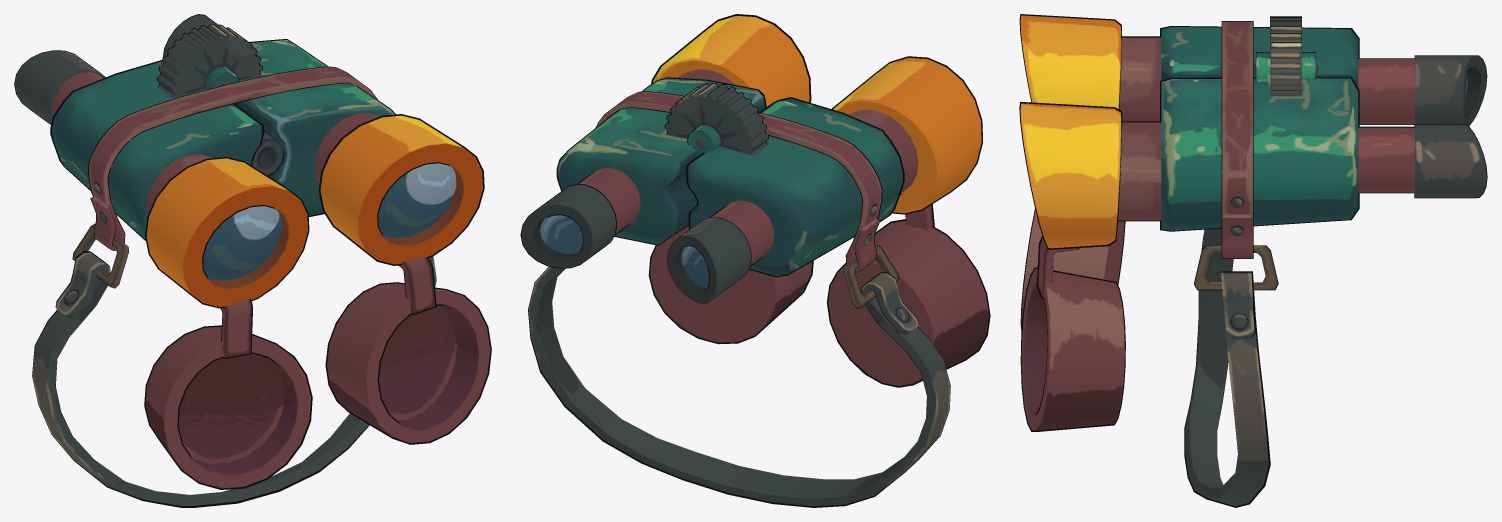
The model's file is binoculars.glb.
3 views of the same model, side by side, from view 1: azimuth 30°, elevation 25°; view 2: azimuth 150°, elevation 25°; view 3: azimuth 270°, elevation 25° (orthographic). The views are drawn at different scales.
Parts seen in each view (by area): view 1: pCylinder11, pCylinder1, pCube22, pCylinder2, pCylinder10, pCube7, pCube4, pCube10, pGear1, pCube20, pCube1, pCylinder14 (+15 smaller); view 2: pCube22, pCube7, pCylinder11, pCube4, pCylinder10, pCylinder2, pCylinder1, pCylinder6, pCube10, pCylinder14, pGear1, pCylinder4 (+12 smaller); view 3: pCube4, pCylinder1, pCube7, pCylinder2, pCylinder10, pCube10, pCube22, pCylinder6, pCylinder14, pCylinder3, pCylinder4, pCylinder13 (+10 smaller).
Part boxes in pixels (x1,y1,x2,y2): pCylinder11: [145, 326, 310, 488]; pCylinder1: [327, 283, 490, 443]; pCube22: [52, 61, 262, 239]; pCylinder2: [320, 115, 482, 264]; pCylinder10: [146, 158, 307, 306]; pCube7: [32, 252, 436, 506]; pCube4: [235, 40, 394, 215]; pCube10: [89, 67, 376, 250]; pGear1: [157, 24, 261, 97]; pCube20: [203, 206, 281, 280]; pCube1: [378, 163, 456, 238]; pCylinder14: [14, 50, 105, 124]; pCube22: [687, 98, 902, 276]; pCube7: [528, 267, 950, 506]; pCylinder11: [828, 220, 988, 386]; pCube4: [558, 78, 765, 244]; pCylinder10: [833, 57, 981, 213]; pCylinder2: [653, 15, 809, 106]; pCylinder1: [650, 226, 811, 342]; pCylinder6: [521, 184, 616, 267]; pCube10: [597, 91, 881, 271]; pCylinder14: [667, 217, 751, 303]; pGear1: [665, 83, 768, 155]; pCylinder4: [579, 168, 640, 233]; pCube4: [1161, 78, 1358, 230]; pCylinder1: [1021, 269, 1124, 430]; pCube7: [1185, 228, 1268, 506]; pCylinder2: [1020, 103, 1121, 248]; pCylinder10: [1020, 15, 1121, 108]; pCube10: [1222, 21, 1252, 258]; pCube22: [1161, 27, 1358, 87]; pCylinder6: [1415, 124, 1486, 197]; pCylinder14: [1415, 55, 1486, 125]; pCylinder3: [1117, 122, 1161, 220]; pCylinder4: [1358, 127, 1414, 192]; pCylinder13: [1358, 59, 1414, 124].
Size of the model in its own units: 4.46 by 4.68 by 4.36.
Materials: 2 (1 with a texture image).
